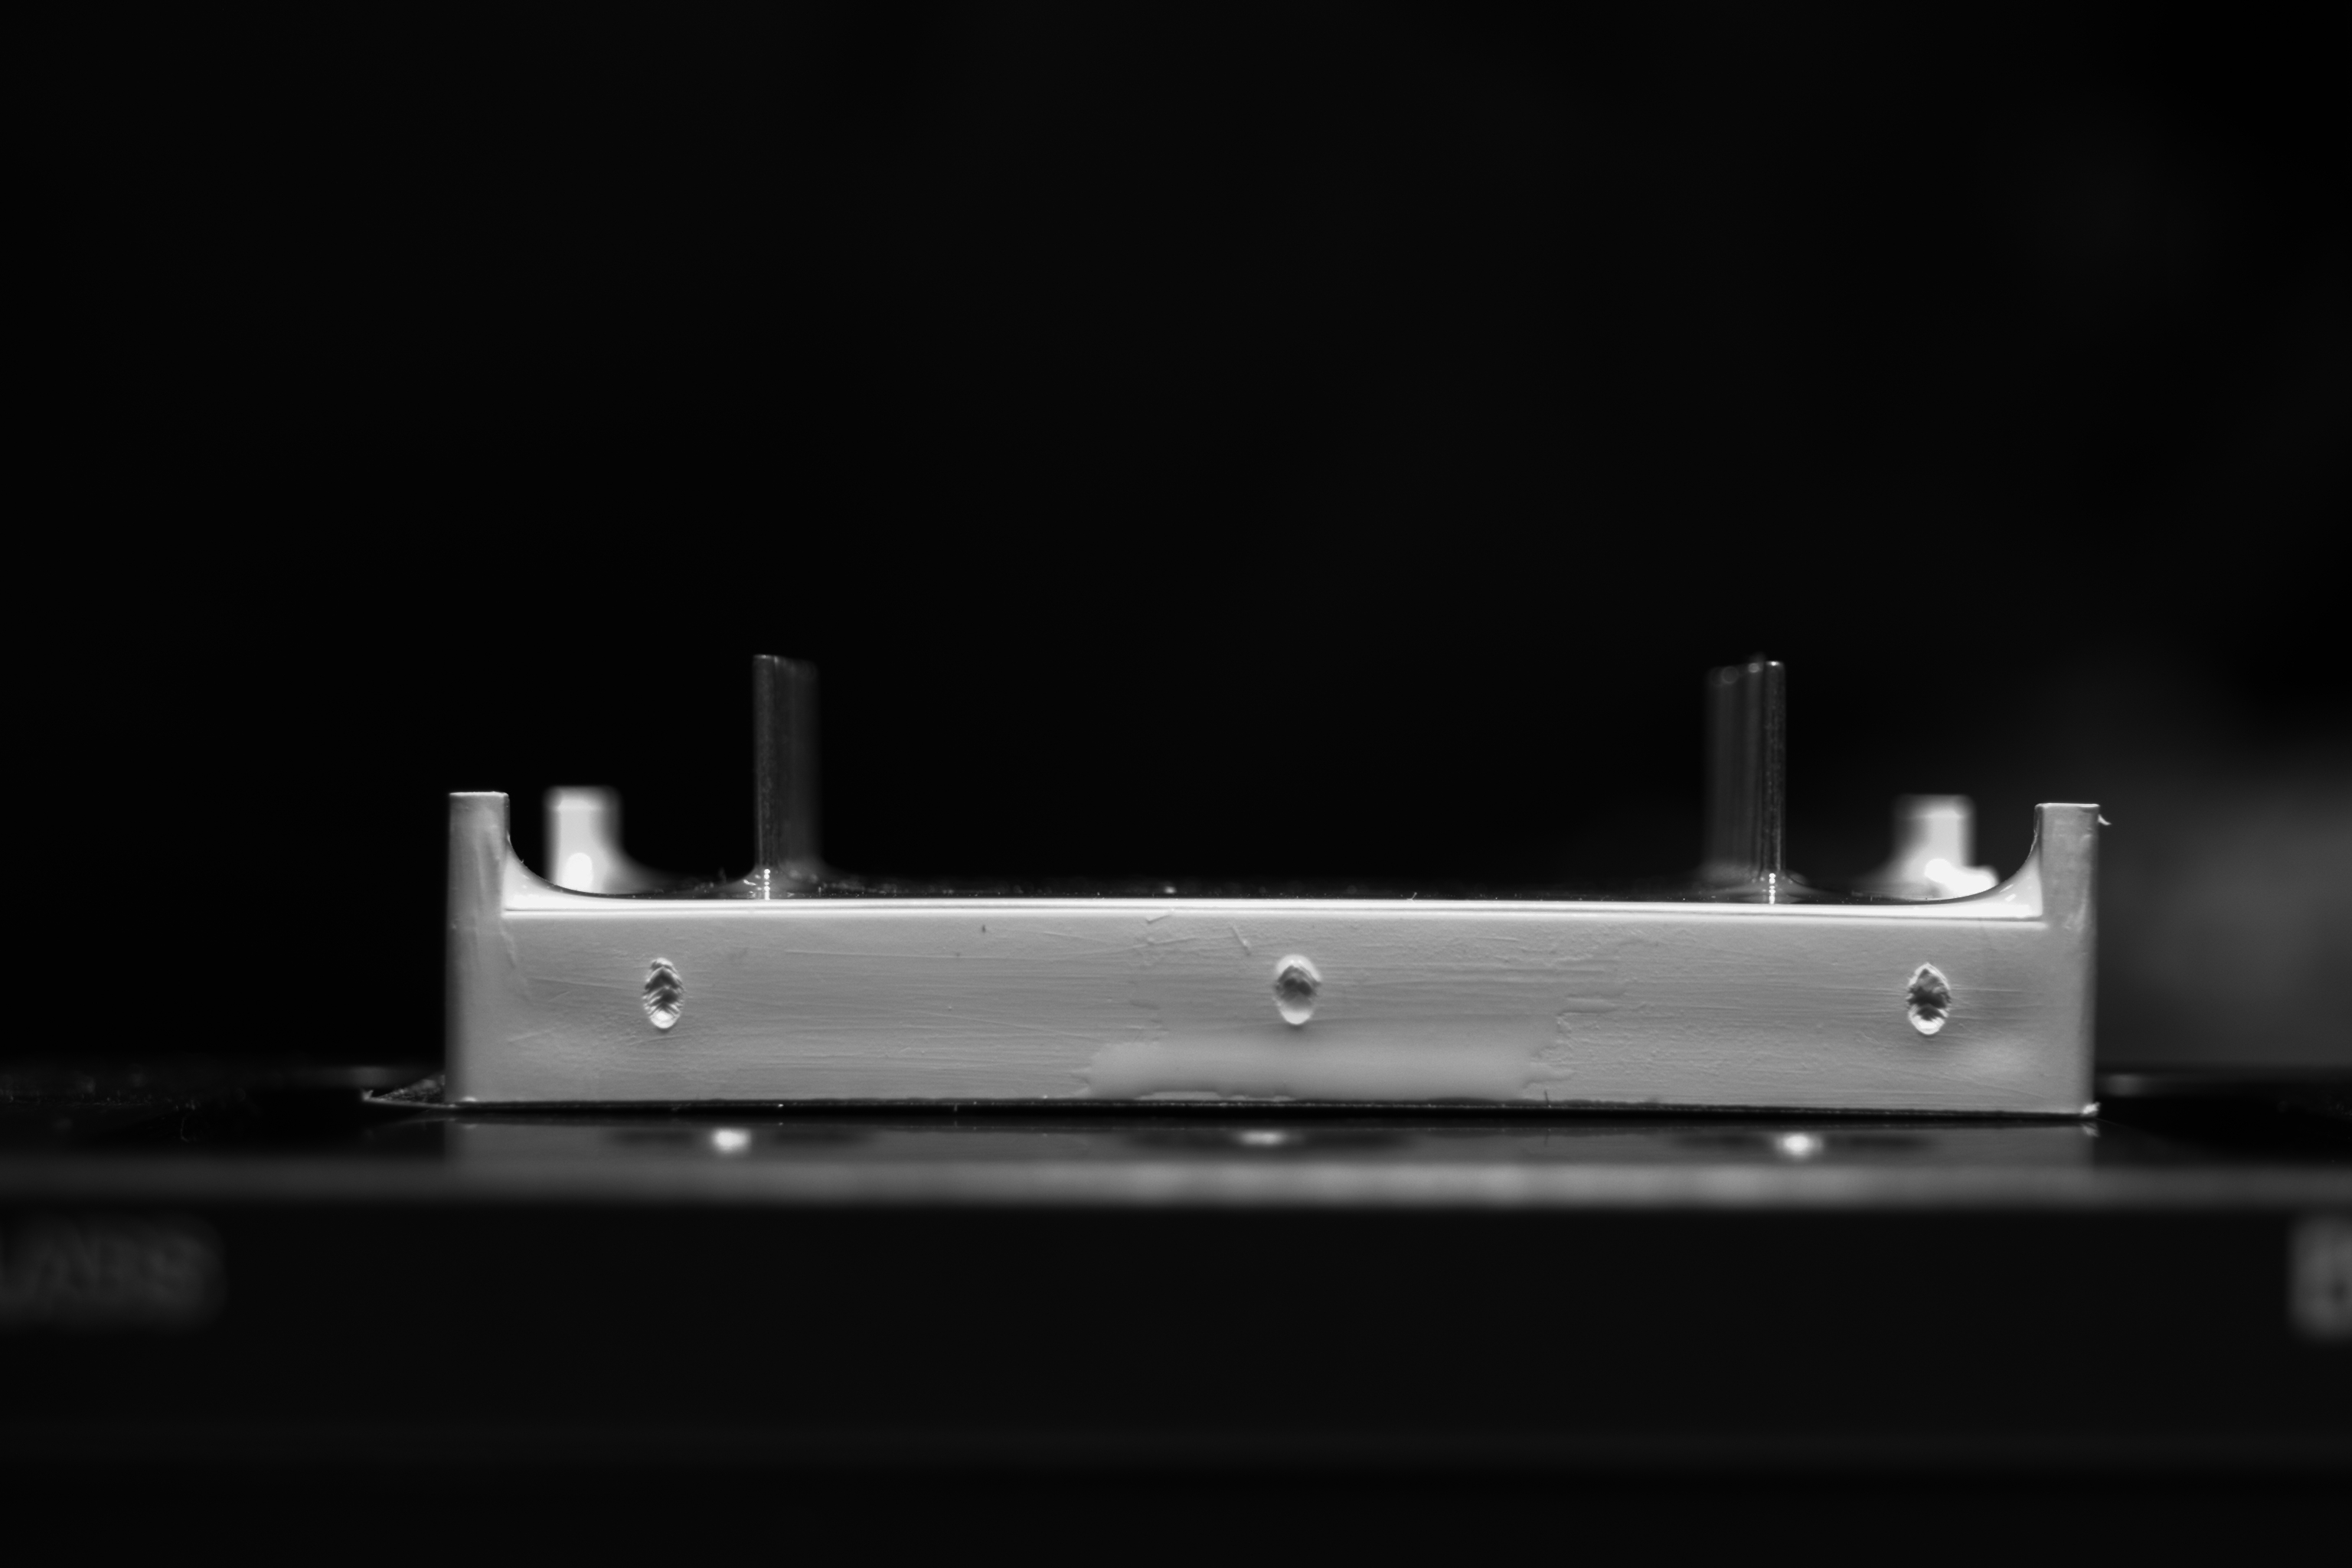glue: (1062, 1031, 1580, 1106), (1536, 973, 1636, 1017), (2070, 831, 2095, 857)
injection_hole: (1904, 959, 1955, 1041), (1272, 954, 1326, 1029), (640, 955, 688, 1036)
